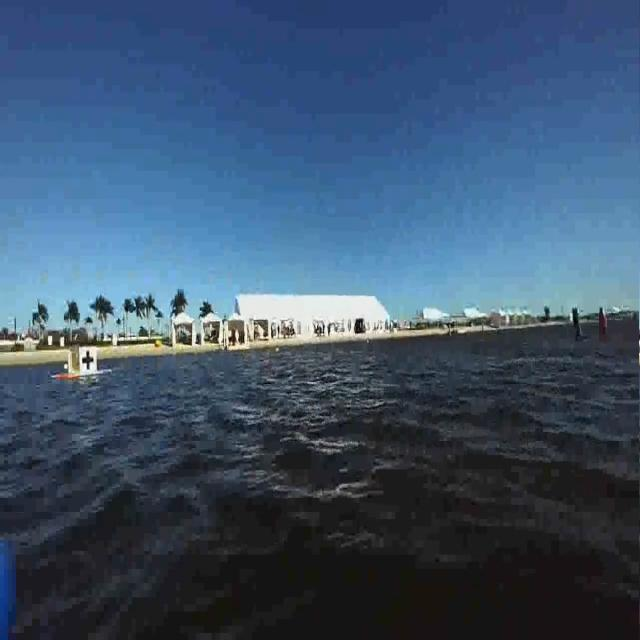blue-buoy: (0, 532, 11, 636)
red-column-buoy: (598, 308, 609, 334)
